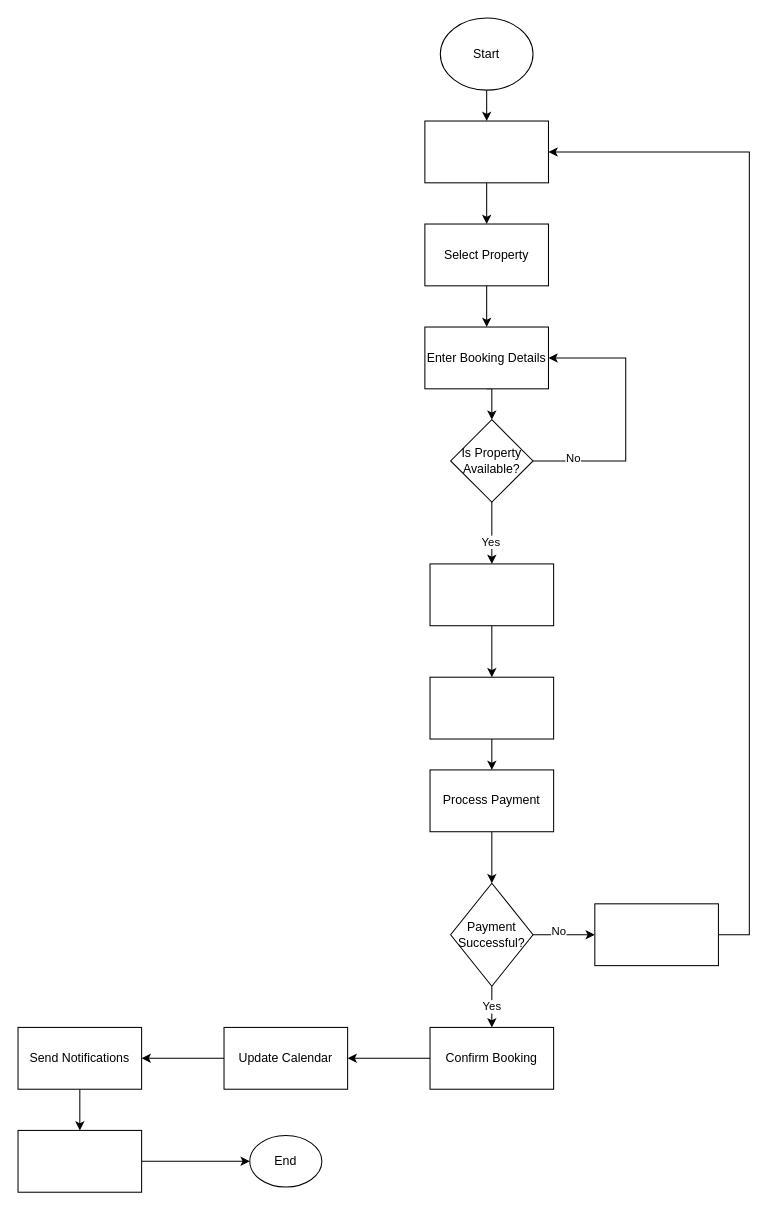
This 776x1210 diagram has some shape labels left out. The shapes that lost their labels are listed below. From the top down, each one's centre as x and y in pixels, then its label:
At point (486, 151): "Search Listings".
At point (491, 594): "Calculate Price".
At point (491, 707): "Create Booking Intent".
At point (656, 934): "Cancel Booking".
At point (79, 1160): "Schedule Host Payout".
